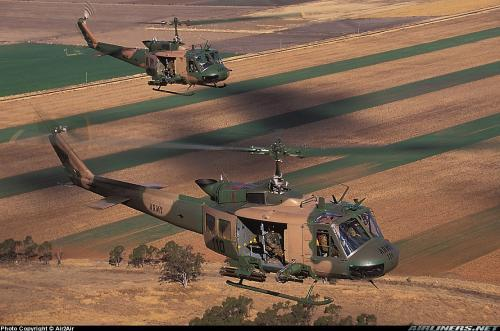airplane: (38, 114, 403, 283), (75, 1, 240, 96)
